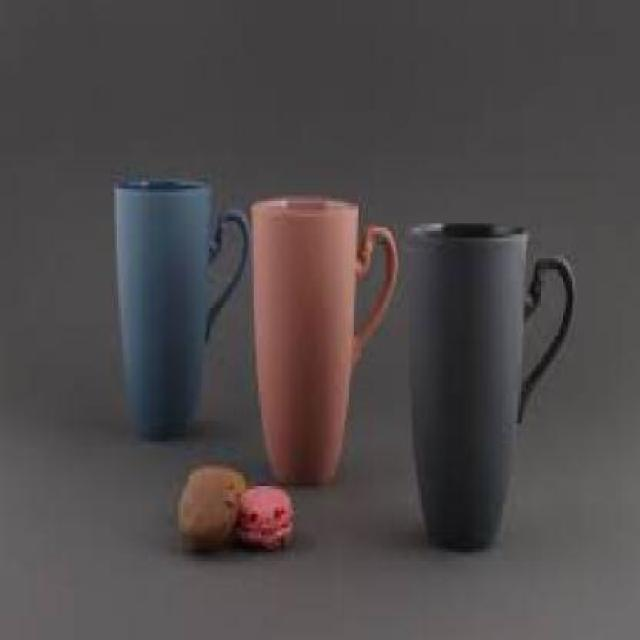cup: (395, 214, 584, 553), (237, 186, 398, 494), (108, 168, 252, 455)
